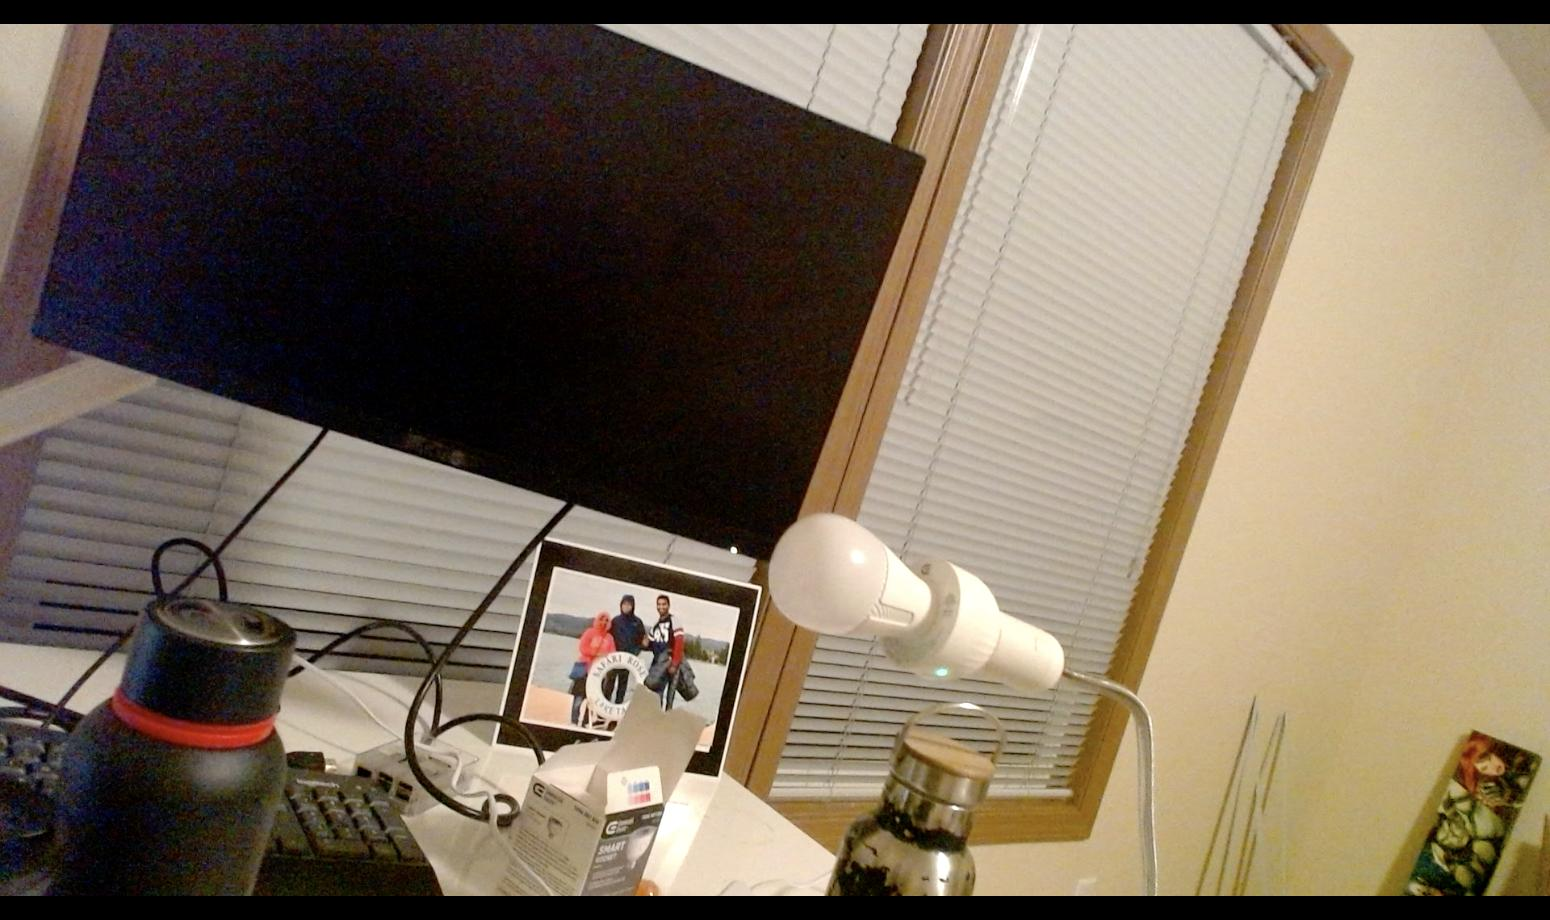Fan: (763, 510, 938, 639)
